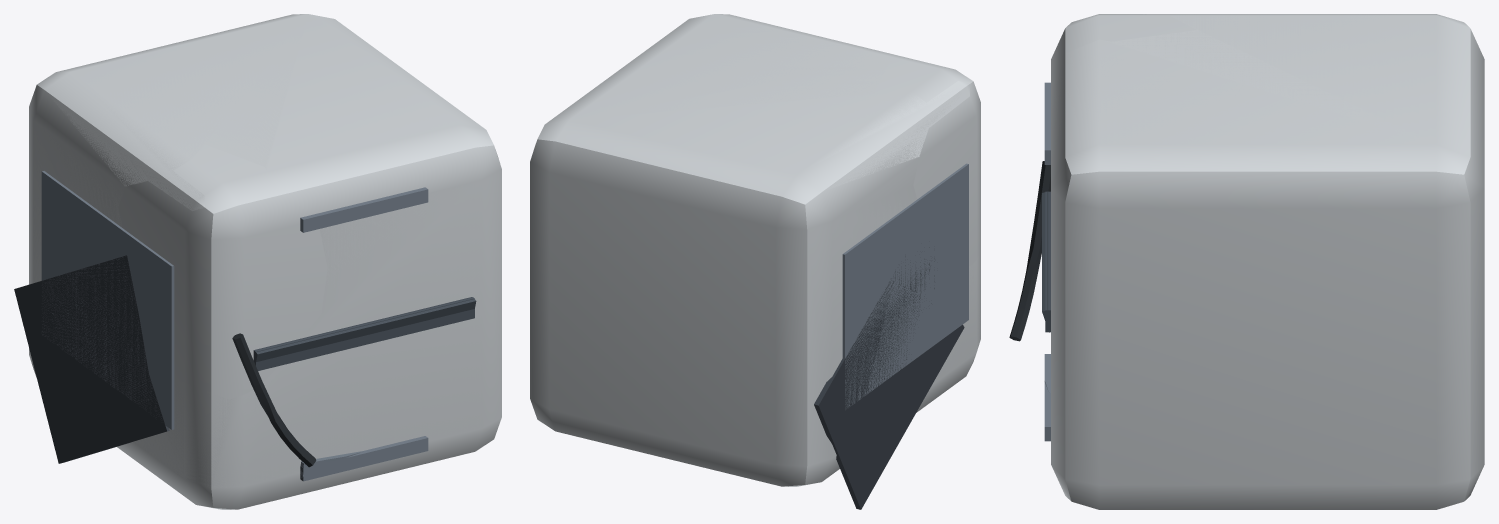
Rendered from shr_cmp_generic_panel_polymer_a.glb.
The picture shows the model from 3 angles, left to right: view 1: azimuth 30°, elevation 25°; view 2: azimuth 150°, elevation 25°; view 3: azimuth 270°, elevation 25°; orthographic projection. The views are drawn at different scales.
Visible parts, largest first — view 1: mesh_heavy, mesh_intact; view 2: mesh_heavy, mesh_intact; view 3: mesh_heavy, mesh_intact.
Part boxes in pixels (x1,y1,x2,y2): mesh_heavy: (14, 14, 501, 509); mesh_intact: (33, 14, 481, 488); mesh_heavy: (530, 14, 980, 509); mesh_intact: (570, 14, 980, 454); mesh_heavy: (1009, 14, 1484, 509); mesh_intact: (1044, 14, 1436, 441).
Bounding box in the file's own units: 0.504 × 0.5531 × 0.592.
